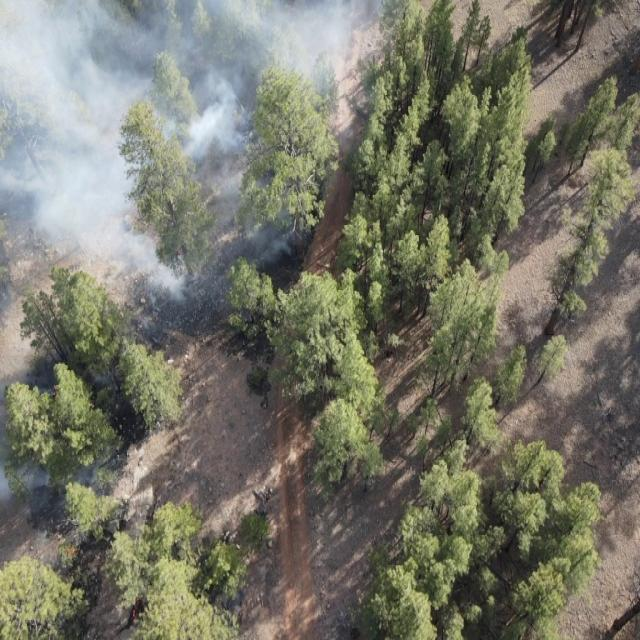fire: (126, 599, 143, 629), (64, 540, 78, 562), (52, 383, 58, 401)
smoke: (0, 0, 386, 148), (0, 147, 307, 309), (0, 440, 113, 501)
